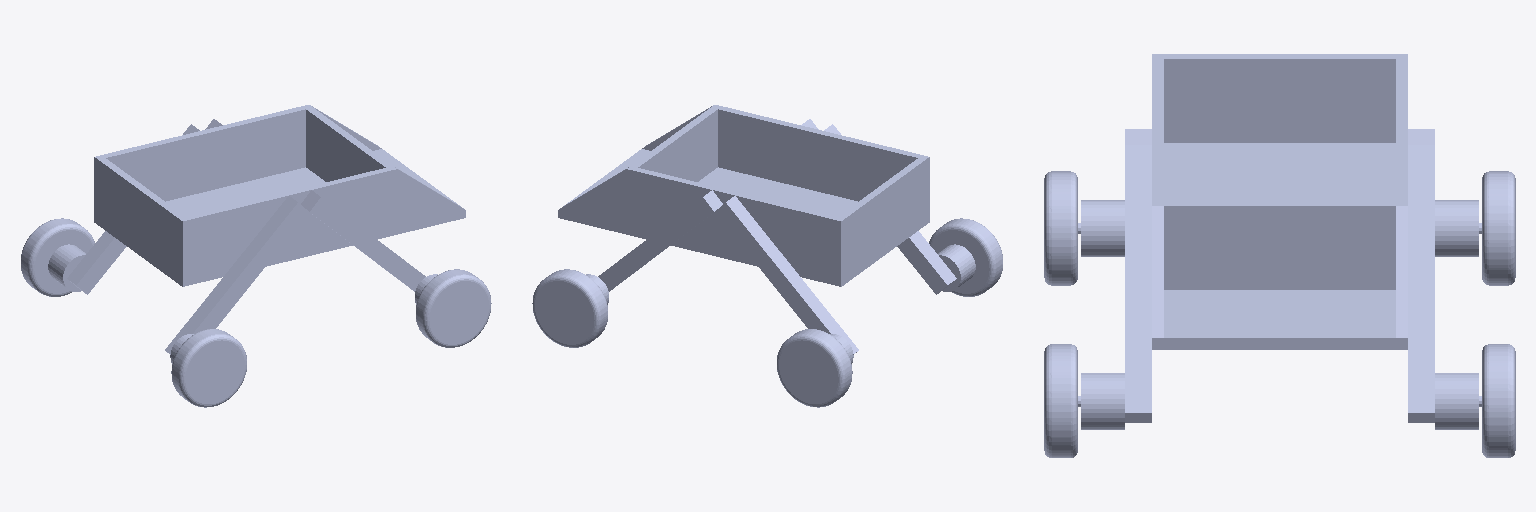
URDF robot description (rover_description):
<?xml version="1.0" ?>
<!-- =================================================================================== -->
<!-- |    This document was autogenerated by xacro from rover_description.urdf.xacro   | -->
<!-- |    EDITING THIS FILE BY HAND IS NOT RECOMMENDED                                 | -->
<!-- =================================================================================== -->
<robot name="rover_description">
  <!-- Base Link -->
  <gazebo reference="base_link">
    <material>Gazebo/Silver</material>
  </gazebo>
  <!-- Back Right Wheel -->
  <gazebo reference="link_BR">
    <mu1>1000000000000000.0</mu1>
    <mu2>1000000000000000.0</mu2>
    <kp>1000000000000.0</kp>
    <kd>10.0</kd>
    <minDepth>0.001</minDepth>
    <maxVel>0.1</maxVel>
    <fdir1>1 0 0</fdir1>
    <material>Gazebo/Black</material>
  </gazebo>
  <!-- Back Left Wheel -->
  <gazebo reference="link_BL">
    <mu1>1000000000000000.0</mu1>
    <mu2>1000000000000000.0</mu2>
    <kp>1000000000000.0</kp>
    <kd>10.0</kd>
    <minDepth>0.001</minDepth>
    <maxVel>0.1</maxVel>
    <fdir1>1 0 0</fdir1>
    <material>Gazebo/Black</material>
  </gazebo>
  <!-- Front Right Wheel -->
  <gazebo reference="link_FR">
    <mu1>1000000000000000.0</mu1>
    <mu2>1000000000000000.0</mu2>
    <kp>1000000000000.0</kp>
    <kd>10.0</kd>
    <minDepth>0.001</minDepth>
    <maxVel>0.1</maxVel>
    <fdir1>1 0 0</fdir1>
    <material>Gazebo/Black</material>
  </gazebo>
  <!-- Front Left Wheel -->
  <gazebo reference="link_FL">
    <mu1>1000000000000000.0</mu1>
    <mu2>1000000000000000.0</mu2>
    <kp>1000000000000.0</kp>
    <kd>10.0</kd>
    <minDepth>0.001</minDepth>
    <maxVel>0.1</maxVel>
    <fdir1>1 0 0</fdir1>
    <material>Gazebo/Black</material>
  </gazebo>
  <!-- Materials -->
  <material name="blue">
    <color rgba="0 0 1 1"/>
  </material>
  <material name="black">
    <color rgba="0 0 0 1"/>
  </material>
  <material name="silver">
    <color rgba="0.79 0.82 0.93 1"/>
  </material>
  <material name="dark_grey">
    <color rgba="0.3 0.3 0.3 1"/>
  </material>
  <link name="base_footprint"/>
  <joint name="base_joint" type="fixed">
    <origin rpy="0 0 0" xyz="0 0 0.20504"/>
    <parent link="base_footprint"/>
    <child link="base_link"/>
  </joint>
  <link name="base_link">
    <inertial>
      <origin rpy="0 0 0" xyz="-0.0355623533286835 -2.22044604925031E-16 0.0164166426332336"/>
      <mass value="11.4311847158193"/>
      <inertia ixx="0.15921041630405" ixy="-1.96548467063328E-17" ixz="0.00978928264057675" iyy="0.356433283334057" iyz="-2.51404195233332E-17" izz="0.453550833652058"/>
    </inertial>
    <visual>
      <origin rpy="0 0 0" xyz="0 0 0"/>
      <geometry>
        <mesh filename="package://rover_description/meshes/base_link.STL"/>
      </geometry>
      <material name="">
        <color rgba="0.792156862745098 0.819607843137255 0.933333333333333 1"/>
      </material>
    </visual>
    <collision>
      <origin rpy="0 0 0" xyz="0 0 0"/>
      <geometry>
        <mesh filename="package://rover_description/meshes/base_link.STL"/>
      </geometry>
    </collision>
  </link>
  <link name="link_FL">
    <inertial>
      <origin rpy="0 0 0" xyz="-2.2204E-16 -0.02376 1.1102E-16"/>
      <mass value="0.90586"/>
      <inertia ixx="0.001566" ixy="1.107E-20" ixz="2.7438E-19" iyy="0.00276" iyz="-4.4451E-20" izz="0.001566"/>
    </inertial>
    <visual>
      <origin rpy="0 0 0" xyz="0 0 0"/>
      <geometry>
        <mesh filename="package://rover_description/meshes/link_FL.STL"/>
      </geometry>
      <material name="">
        <color rgba="0.79216 0.81961 0.93333 1"/>
      </material>
    </visual>
    <collision>
      <origin rpy="0 0 0" xyz="0 0 0"/>
      <geometry>
        <mesh filename="package://rover_description/meshes/link_FL.STL"/>
      </geometry>
    </collision>
  </link>
  <joint name="joint_FL" type="continuous">
    <origin rpy="0 0 0" xyz="0.22765 0.32735 -0.12704"/>
    <parent link="base_link"/>
    <child link="link_FL"/>
    <axis xyz="0 1 0"/>
  </joint>
  <link name="link_FR">
    <inertial>
      <origin rpy="0 0 0" xyz="-2.2204E-16 0.02376 0"/>
      <mass value="0.90586"/>
      <inertia ixx="0.001566" ixy="2.6941E-20" ixz="4.3411E-21" iyy="0.00276" iyz="-4.0591E-20" izz="0.001566"/>
    </inertial>
    <visual>
      <origin rpy="0 0 0" xyz="0 0 0"/>
      <geometry>
        <mesh filename="package://rover_description/meshes/link_FR.STL"/>
      </geometry>
      <material name="">
        <color rgba="0.79216 0.81961 0.93333 1"/>
      </material>
    </visual>
    <collision>
      <origin rpy="0 0 0" xyz="0 0 0"/>
      <geometry>
        <mesh filename="package://rover_description/meshes/link_FR.STL"/>
      </geometry>
    </collision>
  </link>
  <joint name="joint_FR" type="continuous">
    <origin rpy="0 0 0" xyz="0.22765 -0.32735 -0.12704"/>
    <parent link="base_link"/>
    <child link="link_FR"/>
    <axis xyz="0 1 0"/>
  </joint>
  <link name="link_BL">
    <inertial>
      <origin rpy="0 0 0" xyz="0 -0.02376 1.1102E-16"/>
      <mass value="0.90586"/>
      <inertia ixx="0.001566" ixy="-6.5434E-20" ixz="-4.6682E-20" iyy="0.00276" iyz="-5.054E-21" izz="0.001566"/>
    </inertial>
    <visual>
      <origin rpy="0 0 0" xyz="0 0 0"/>
      <geometry>
        <mesh filename="package://rover_description/meshes/link_BL.STL"/>
      </geometry>
      <material name="">
        <color rgba="0.79216 0.81961 0.93333 1"/>
      </material>
    </visual>
    <collision>
      <origin rpy="0 0 0" xyz="0 0 0"/>
      <geometry>
        <mesh filename="package://rover_description/meshes/link_BL.STL"/>
      </geometry>
    </collision>
  </link>
  <joint name="joint_BL" type="continuous">
    <origin rpy="0 0 0" xyz="-0.34054 0.32735 -0.12704"/>
    <parent link="base_link"/>
    <child link="link_BL"/>
    <axis xyz="0 1 0"/>
  </joint>
  <link name="link_BR">
    <inertial>
      <origin rpy="0 0 0" xyz="-2.2204E-16 0.02376 0"/>
      <mass value="0.90586"/>
      <inertia ixx="0.001566" ixy="-8.0765E-20" ixz="-2.3203E-19" iyy="0.00276" iyz="4.4181E-20" izz="0.001566"/>
    </inertial>
    <visual>
      <origin rpy="0 0 0" xyz="0 0 0"/>
      <geometry>
        <mesh filename="package://rover_description/meshes/link_BR.STL"/>
      </geometry>
      <material name="">
        <color rgba="0.79216 0.81961 0.93333 1"/>
      </material>
    </visual>
    <collision>
      <origin rpy="0 0 0" xyz="0 0 0"/>
      <geometry>
        <mesh filename="package://rover_description/meshes/link_BR.STL"/>
      </geometry>
    </collision>
  </link>
  <joint name="joint_BR" type="continuous">
    <origin rpy="0 0 0" xyz="-0.34054 -0.32735 -0.12704"/>
    <parent link="base_link"/>
    <child link="link_BR"/>
    <axis xyz="0 1 0"/>
  </joint>
</robot>

--- Facts derived from the render (not from the file) ---
3 views of the same robot in one strip: view 1: azimuth 30°, elevation 25°; view 2: azimuth 150°, elevation 25°; view 3: azimuth 270°, elevation 25° (orthographic).
Model rover_description with 6 links and 5 joints (4 continuous, 1 fixed), rooted at base_footprint, posed all joints at 0.
Visible links, largest first — view 1: base_link, link_FR, link_BR, link_BL; view 2: base_link, link_FL, link_BL, link_BR; view 3: base_link, link_BL, link_BR, link_FL, link_FR.
Link boxes in pixels (<box>): base_link: <box>48,105,465,363</box>; link_FR: <box>416,269,491,347</box>; link_BR: <box>171,329,246,407</box>; link_BL: <box>21,218,94,296</box>; base_link: <box>558,105,975,363</box>; link_FL: <box>532,269,607,347</box>; link_BL: <box>777,329,852,407</box>; link_BR: <box>929,218,1002,296</box>; base_link: <box>1081,54,1478,429</box>; link_BL: <box>1479,171,1515,285</box>; link_BR: <box>1044,171,1080,285</box>; link_FL: <box>1479,344,1515,457</box>; link_FR: <box>1044,344,1080,457</box>.
Size in the robot's own frame: 0.7499 by 0.6547 by 0.3524 metres.
5 mesh visuals loaded from 5 distinct referenced files (5 binary STL).